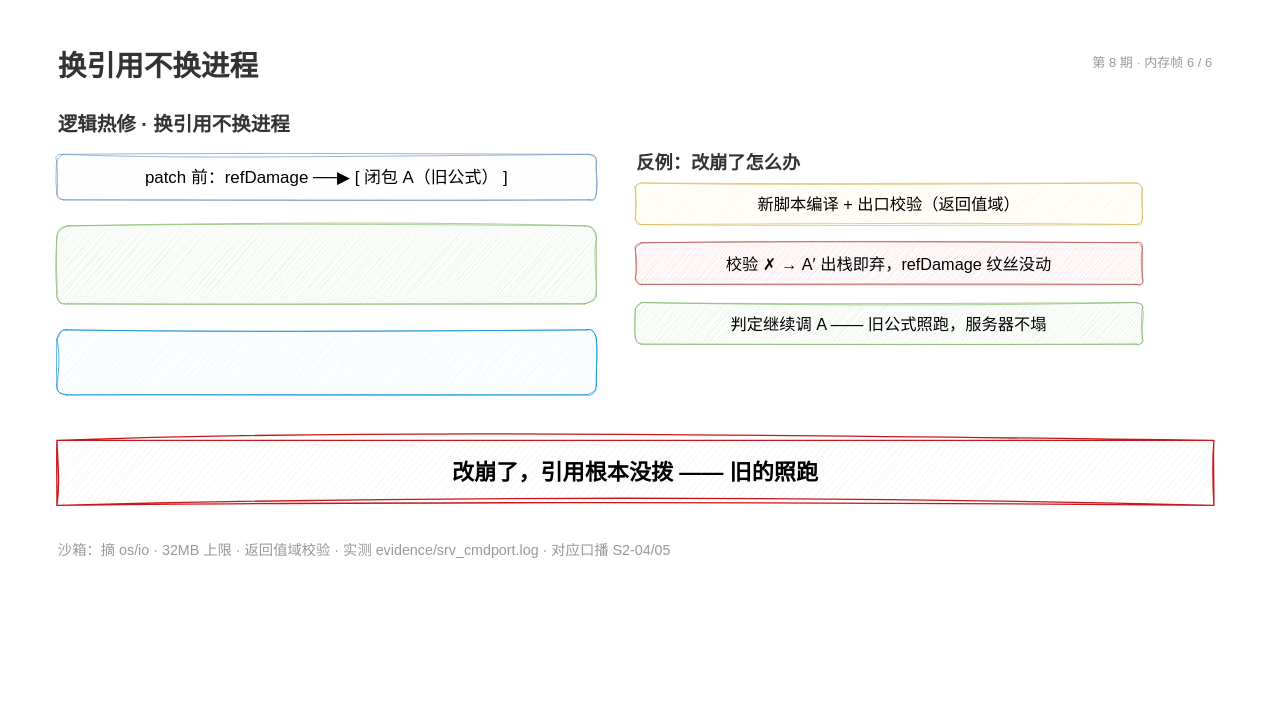
This 1270x724 diagram has some shape labels left out. The centre of each missing label's shape, as x and y in pixels:
"Lua VM 不重启——换的只是 registry 里的一个引用 下一发伤害判定取到的就是新函数" belongs at (326,362).
"patch 后：refDamage ──▶ [ 闭包 A′（新公式） ] 闭包 A 没人再引用 → ♻ 垃圾回收自己收走" belongs at (326,264).
